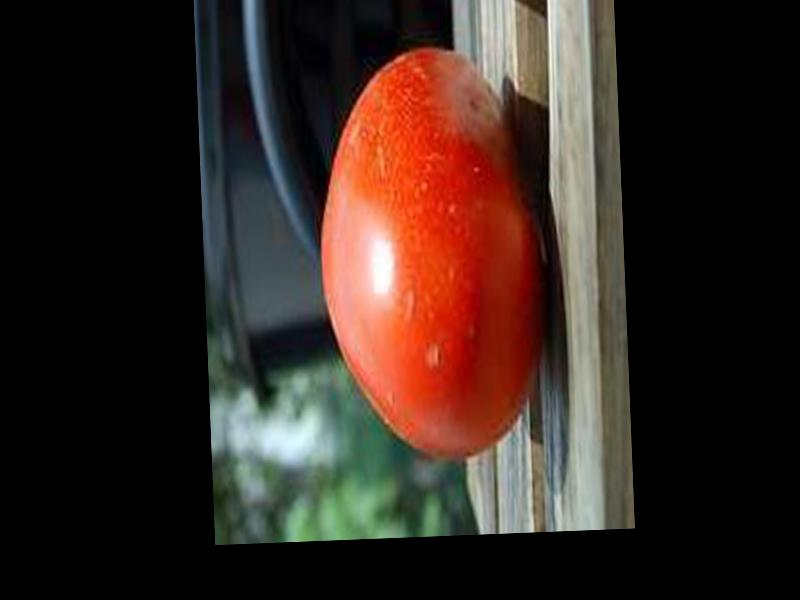Tomato: (312, 44, 546, 465)
